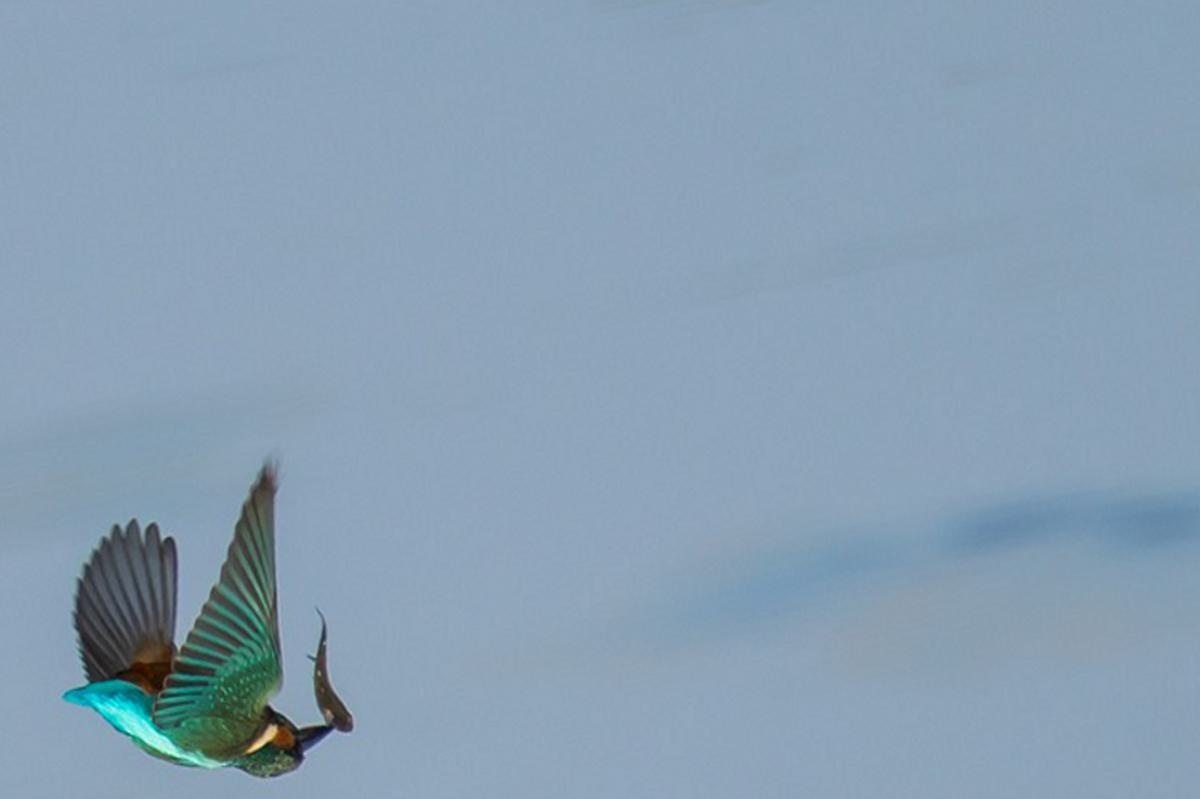kingfisher: (55, 444, 330, 790)
